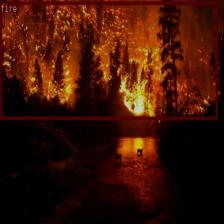fire: (0, 0, 217, 119)
